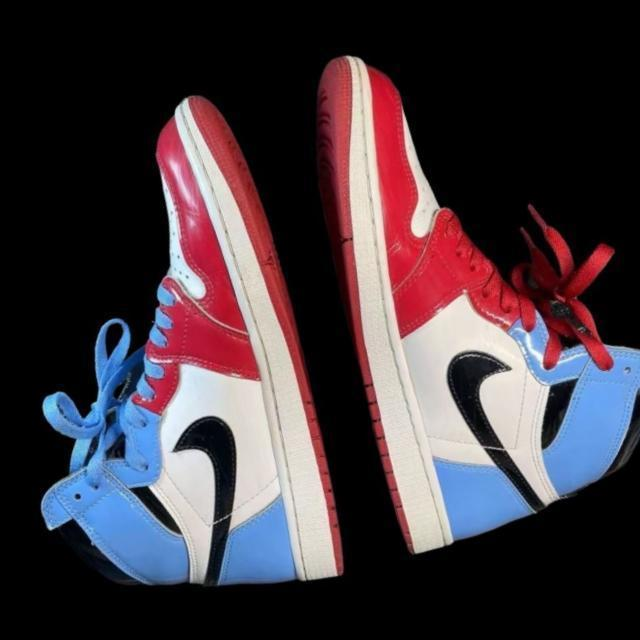nike original jordan 1: (256, 0, 640, 570), (0, 84, 359, 640)
